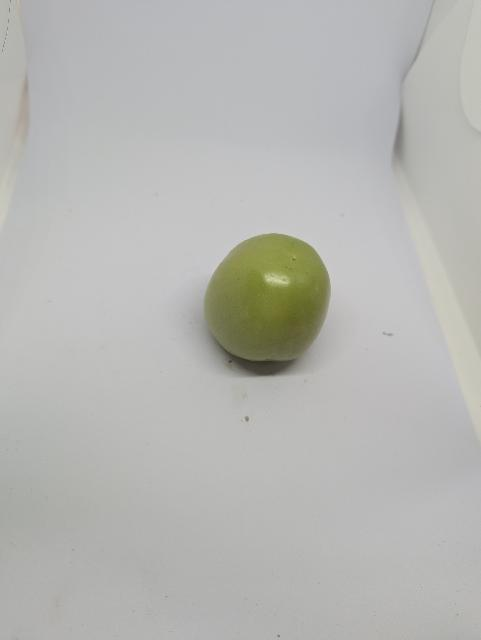green: (198, 217, 336, 376)
